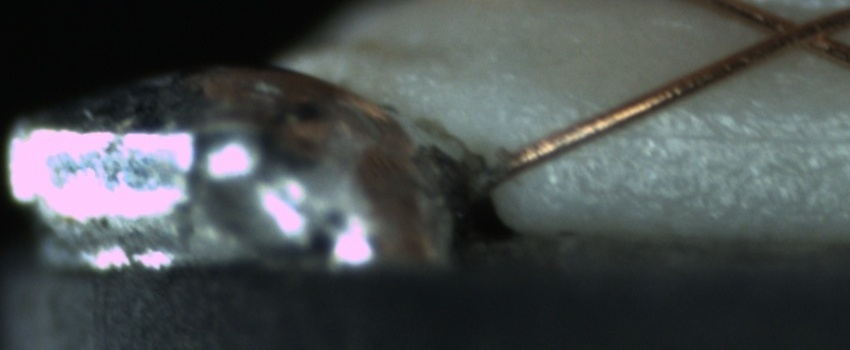CL: (754, 7, 837, 56)
DL: (561, 107, 848, 166)
